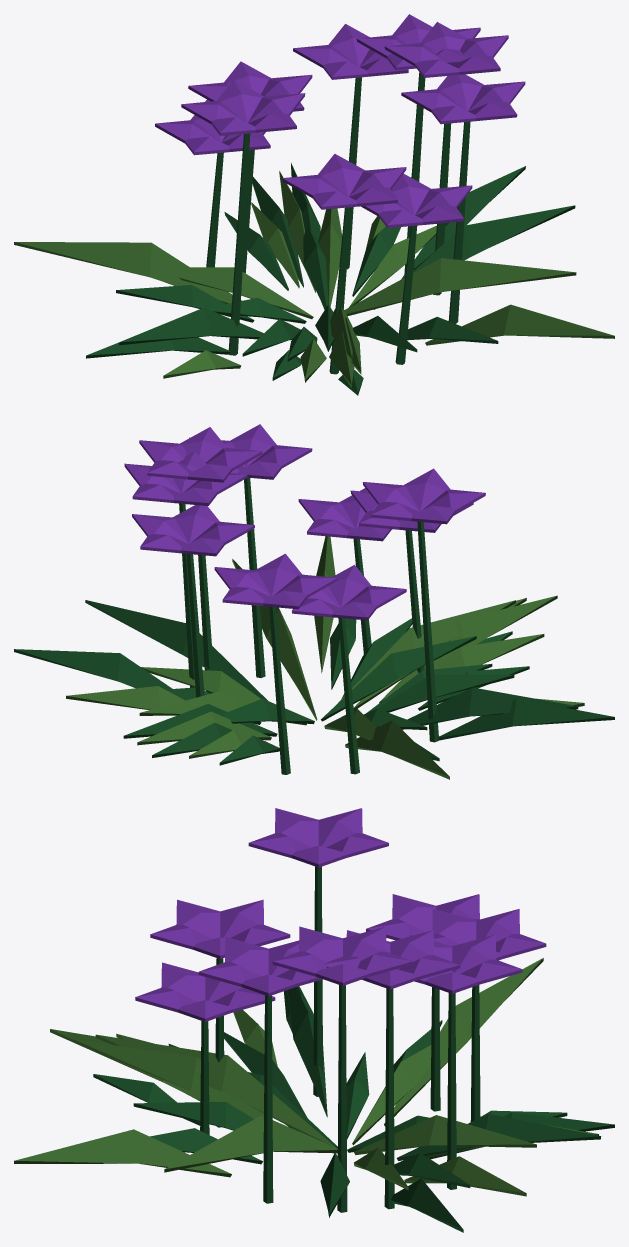
Rendered from Flores_violetas_LOD0.fbx.
3 renders of one model, top to bottom at view 1: azimuth 30°, elevation 25°; view 2: azimuth 150°, elevation 25°; view 3: azimuth 270°, elevation 25°, orthographic. The views are drawn at different scales.
Parts seen in each view (by area): view 1: Flores_violetas_LOD0; view 2: Flores_violetas_LOD0; view 3: Flores_violetas_LOD0.
Boxes of the visible parts, x1,y1,x2,y2 form: Flores_violetas_LOD0: (14,14,614,395); Flores_violetas_LOD0: (14,424,614,779); Flores_violetas_LOD0: (14,808,614,1232).
Size of the model in its own units: 145 by 64.92 by 131.
1 material, 1 textured.
